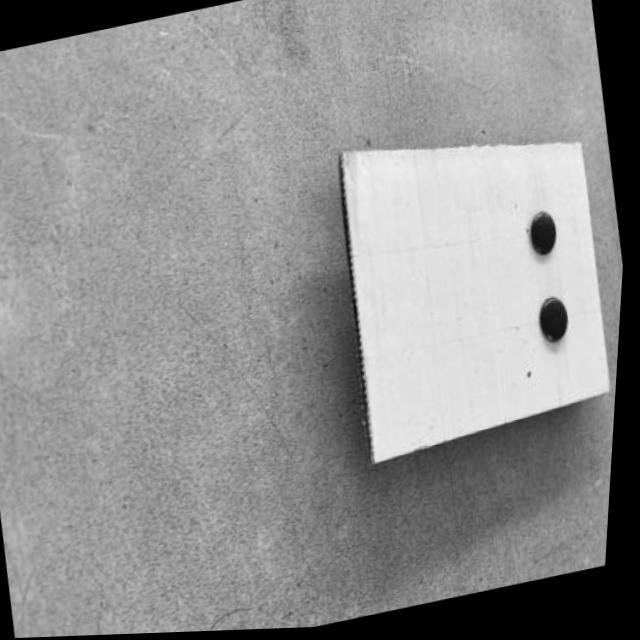braiile: (350, 145, 613, 457)
